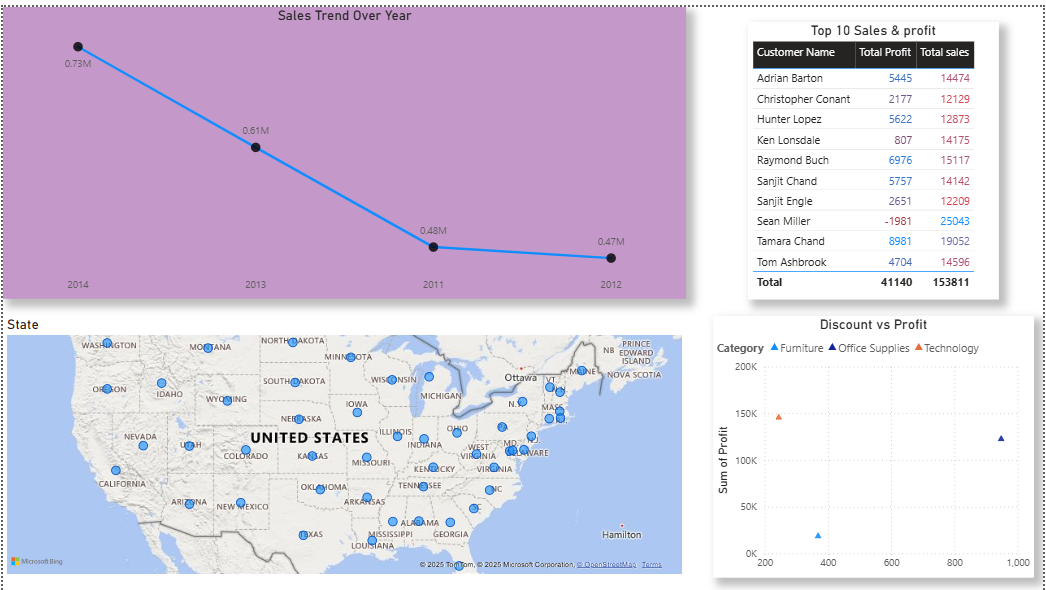

This screenshot's page, from the dashboard's own definition file:
{"tool":"powerbi","page":{"name":"Page 1","canvas":[1280,720],"ordinal":1},"visuals":[{"type":"lineChart","title":"Sales Trend Over Year ","fields":{"Y":["Orders.Sales"],"Category":["Orders.OrderYear"]},"box":[0,0,841.2,359.5],"z":0},{"type":"tableEx","title":"Top 10 Sales & profit","fields":{"Values":["Orders.Customer Name","Dax.Total Profit","Dax.Total sales"]},"box":[916.6,17.8,308.7,341.7],"z":1000},{"type":"scatterChart","title":"Discount vs Profit","fields":{"X":["Orders.Discount"],"Y":["Orders.Profit"],"Series":["Orders.Category"]},"box":[874.1,380.1,395.2,322.5],"z":2000},{"type":"map","fields":{"Category":["Orders.State"]},"box":[0,380,841,322],"z":2001}]}

Visuals, with their boxes in screenshot pixels (x1, y1, x2, y2), scaled from the page's 1280x720 canvas onto the 1046x590 screenshot:
"Sales Trend Over Year " lineChart: [0,0,687,295]
"Top 10 Sales & profit" tableEx: [749,15,1001,295]
"Discount vs Profit" scatterChart: [714,311,1037,576]
map - Orders.State: [0,311,687,575]
